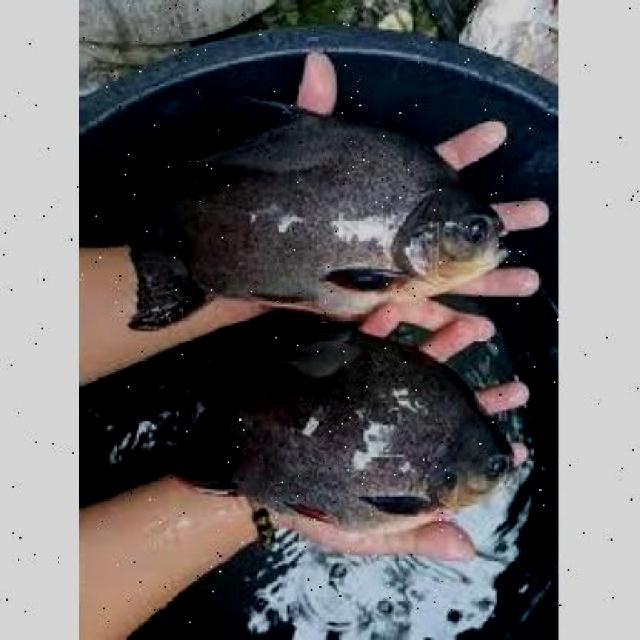ikan-pacu: (117, 120, 511, 316), (148, 328, 510, 521)
